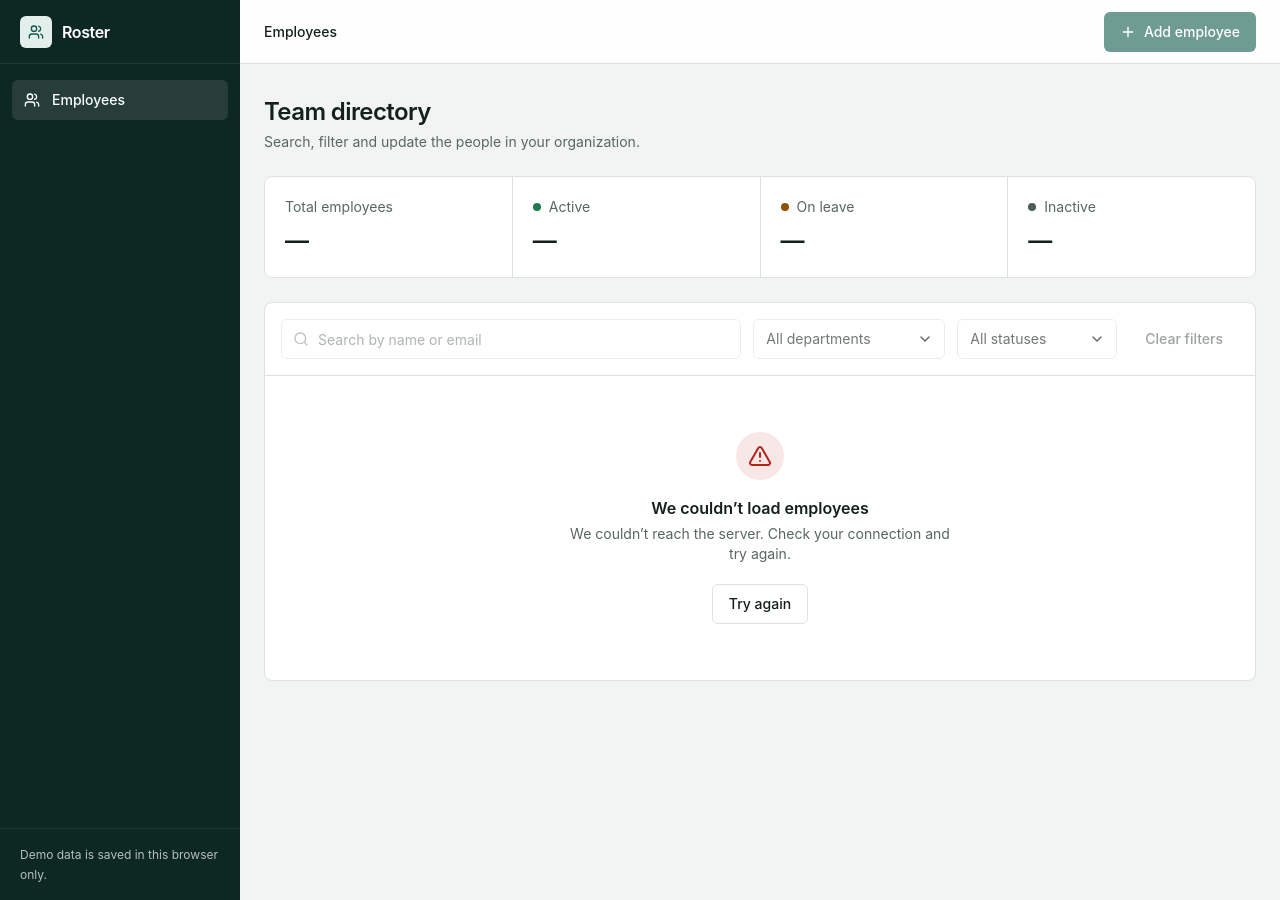
EmployeesPage: loading, empty and error states › shows an error state and recovers with retry
Expected: the heading "We couldn’t load employees" is shown, [651,496,869,520]
Click the button "Try again".
click(760, 604)  # box [712,584,808,624]
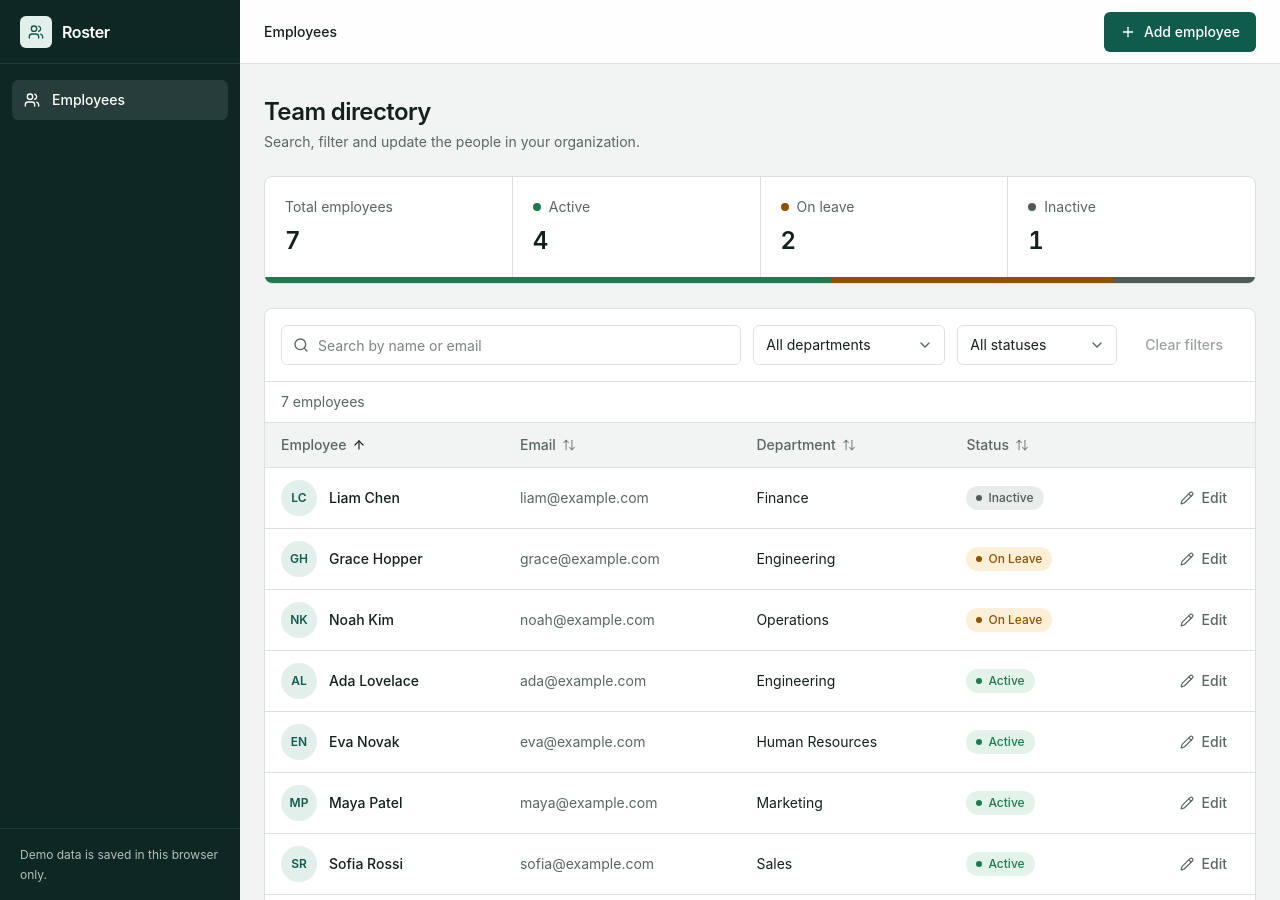
Expected: the text "Ada Lovelace" is shown, [329,671,419,691]
